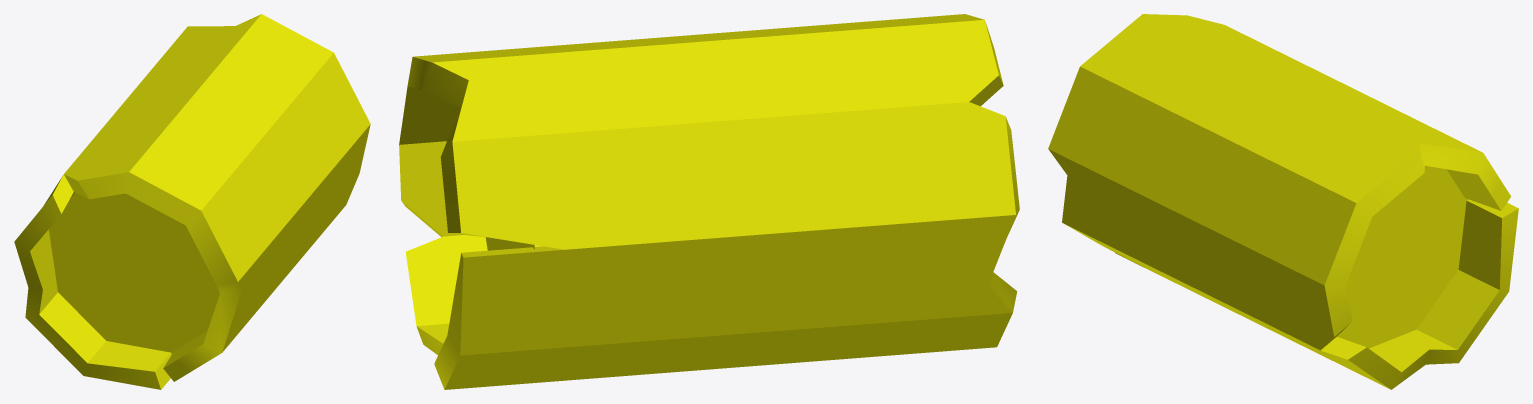
3 renders of one model, left to right at view 1: azimuth 30°, elevation 25°; view 2: azimuth 150°, elevation 25°; view 3: azimuth 270°, elevation 25°, orthographic. The views are drawn at different scales.
Parts seen in each view (by area): view 1: goccay; view 2: goccay; view 3: goccay.
Boxes of the visible parts, box(x1,y1,x2,y2) form: goccay: box(14, 14, 370, 389); goccay: box(399, 14, 1019, 389); goccay: box(1048, 14, 1518, 389).
Size of the model in its own units: 1.9 by 0.9843 by 1.83.
1 material, 1 textured.
